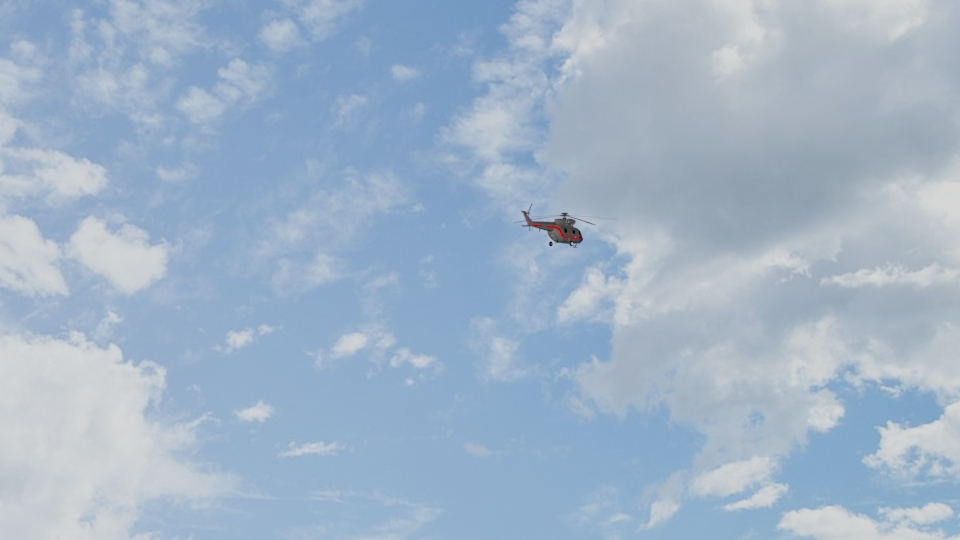heli: (518, 203, 587, 249)
